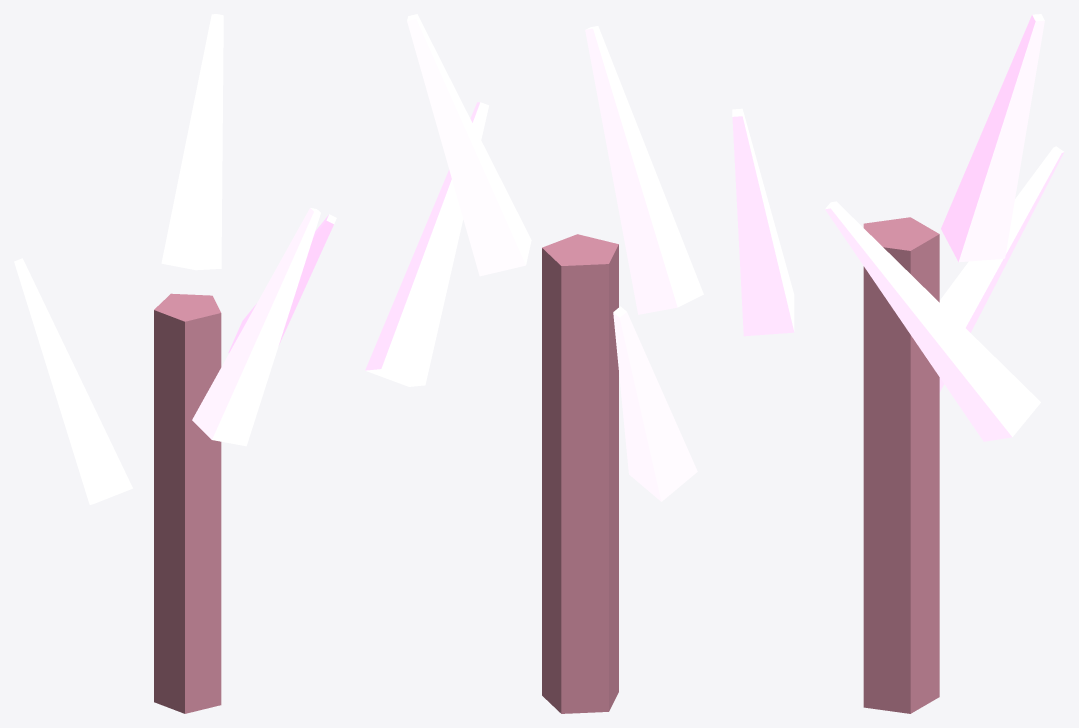
File: coral.glb
3 renders of one model, left to right at view 1: azimuth 30°, elevation 25°; view 2: azimuth 150°, elevation 25°; view 3: azimuth 270°, elevation 25°, orthographic. The views are drawn at different scales.
Parts seen in each view (by area): view 1: stem, tip3, tip2, tip1, tip0; view 2: stem, tip2, tip3, tip0, tip1; view 3: stem, tip0, tip3, tip2, tip1.
Part boxes in pixels (x1=…): stem: x1=154, y1=293, x2=221, y2=713; tip3: x1=161, y1=14, x2=223, y2=270; tip2: x1=192, y1=208, x2=320, y2=446; tip1: x1=14, y1=258, x2=132, y2=504; tip0: x1=228, y1=214, x2=336, y2=352; stem: x1=542, y1=234, x2=618, y2=713; tip2: x1=585, y1=26, x2=703, y2=314; tip3: x1=407, y1=14, x2=531, y2=276; tip0: x1=365, y1=102, x2=488, y2=386; tip1: x1=613, y1=306, x2=697, y2=501; stem: x1=863, y1=217, x2=939, y2=713; tip0: x1=825, y1=201, x2=1040, y2=441; tip3: x1=941, y1=14, x2=1044, y2=262; tip2: x1=732, y1=108, x2=794, y2=336; tip1: x1=939, y1=146, x2=1064, y2=392.
Size of the model in its own units: 0.5623 by 1.34 by 0.5525.
